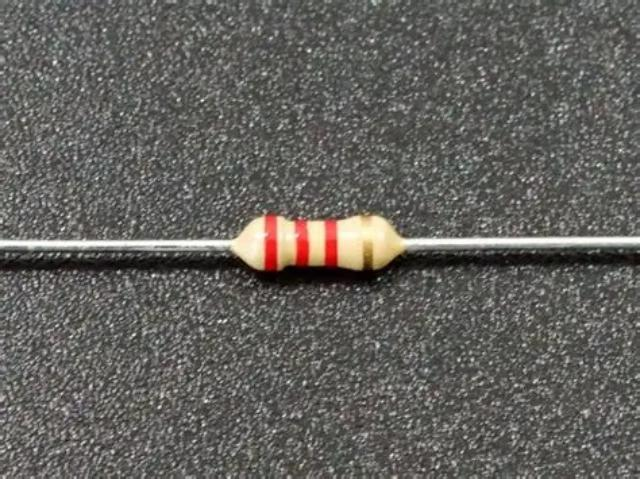gold: (362, 215, 373, 270)
red: (263, 218, 279, 270), (294, 221, 308, 266), (326, 220, 338, 265)
resistor: (224, 201, 425, 287)
